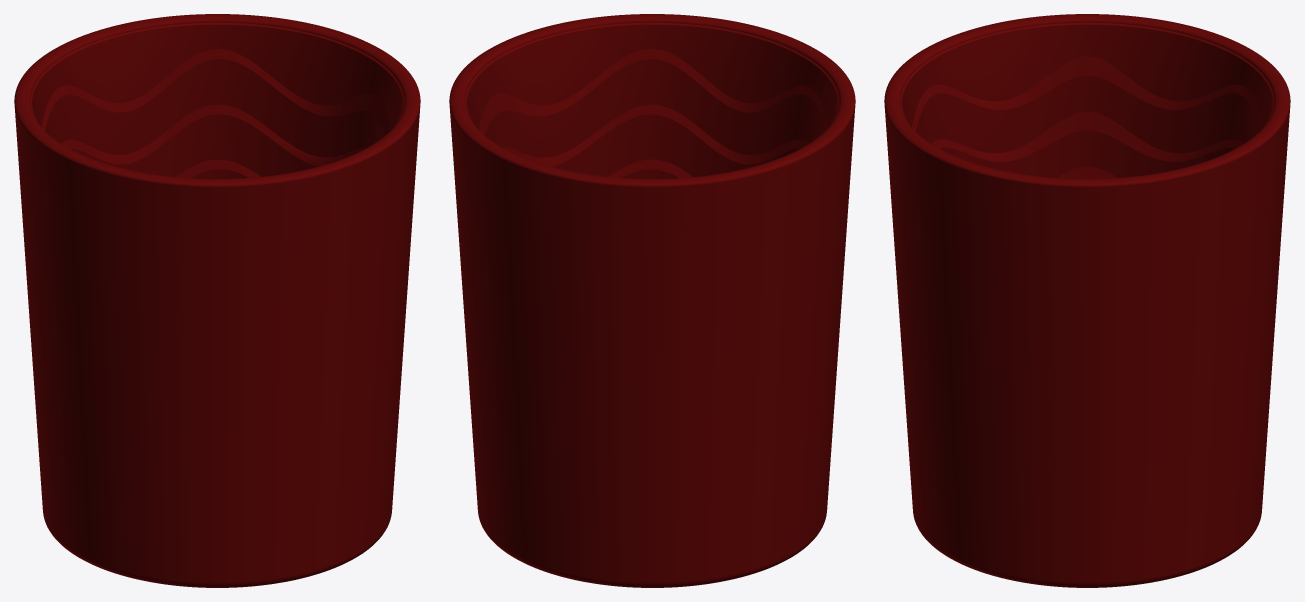
The model's file is model16wave.glb.
3 views of the same model, side by side, from view 1: azimuth 30°, elevation 25°; view 2: azimuth 150°, elevation 25°; view 3: azimuth 270°, elevation 25° (orthographic).
Bounding box in the file's own units: 0.077 × 0.0878 × 0.077.
